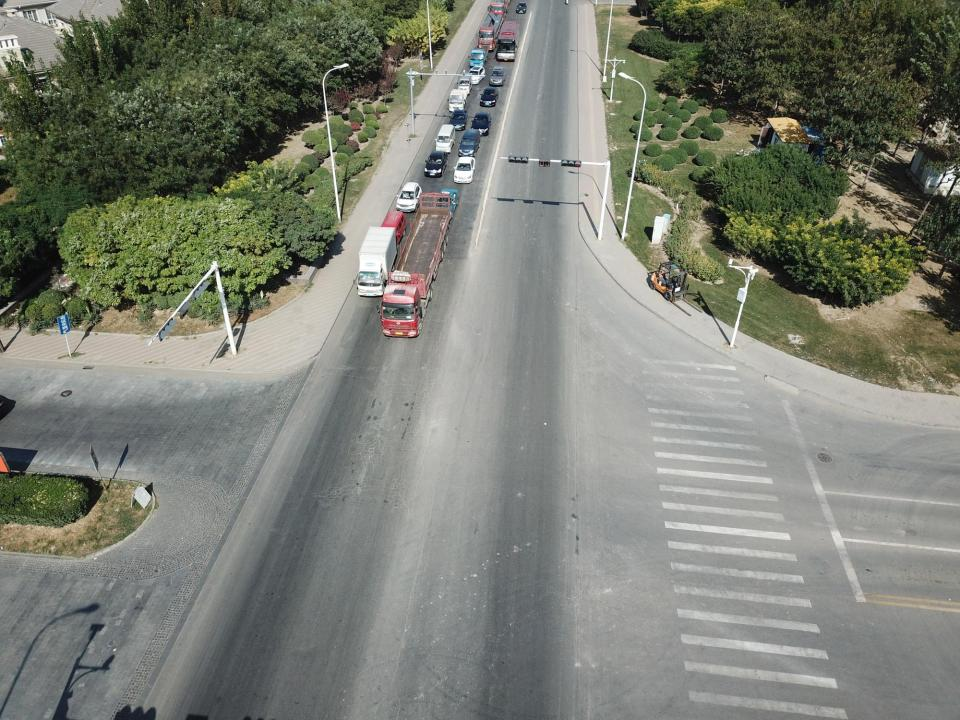bus: (496, 19, 519, 61), (481, 12, 502, 48), (489, 0, 508, 15)
car: (438, 187, 459, 218), (397, 183, 419, 212), (458, 130, 480, 156), (425, 150, 445, 177), (472, 110, 492, 135), (437, 125, 454, 151), (481, 87, 499, 108), (450, 108, 466, 130), (448, 90, 464, 112), (467, 66, 484, 86), (471, 48, 488, 66), (456, 74, 472, 92), (490, 66, 504, 86), (513, 2, 528, 14)
truck: (382, 193, 450, 338), (355, 225, 397, 297)
van: (378, 212, 404, 241), (453, 155, 476, 181)
